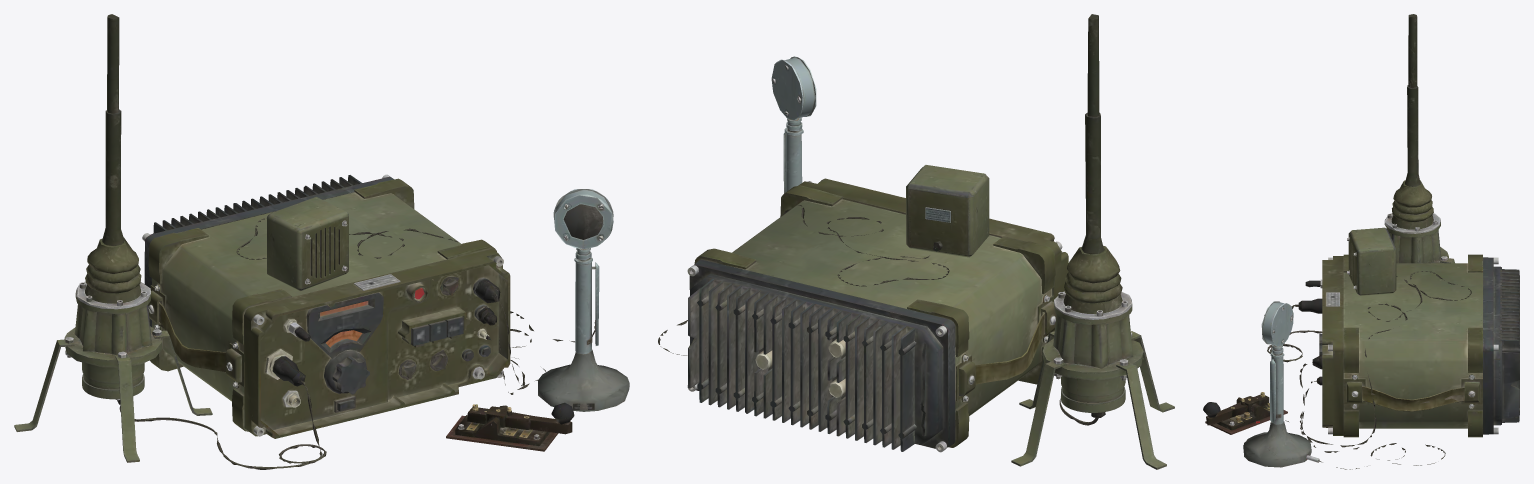
The model's file is vintage_radio_transceiver.glb.
The picture shows the model from 3 angles, left to right: view 1: azimuth 30°, elevation 25°; view 2: azimuth 150°, elevation 25°; view 3: azimuth 270°, elevation 25°; orthographic projection. The views are drawn at different scales.
Visible parts, largest first — view 1: vintage_radio_transceiver, vintage_radio_transceiver_cable; view 2: vintage_radio_transceiver, vintage_radio_transceiver_cable; view 3: vintage_radio_transceiver, vintage_radio_transceiver_cable.
Part boxes in pixels (x1,y1,x2,y2): vintage_radio_transceiver: (142,174,510,438); vintage_radio_transceiver_cable: (14,14,629,469); vintage_radio_transceiver: (687,178,1068,452); vintage_radio_transceiver_cable: (658,14,1174,469); vintage_radio_transceiver: (1319,254,1519,437); vintage_radio_transceiver_cable: (1203,14,1471,469).
Size of the model in its own units: 0.574 by 0.4344 by 0.4131.
Materials: 2 (2 with a texture image).
